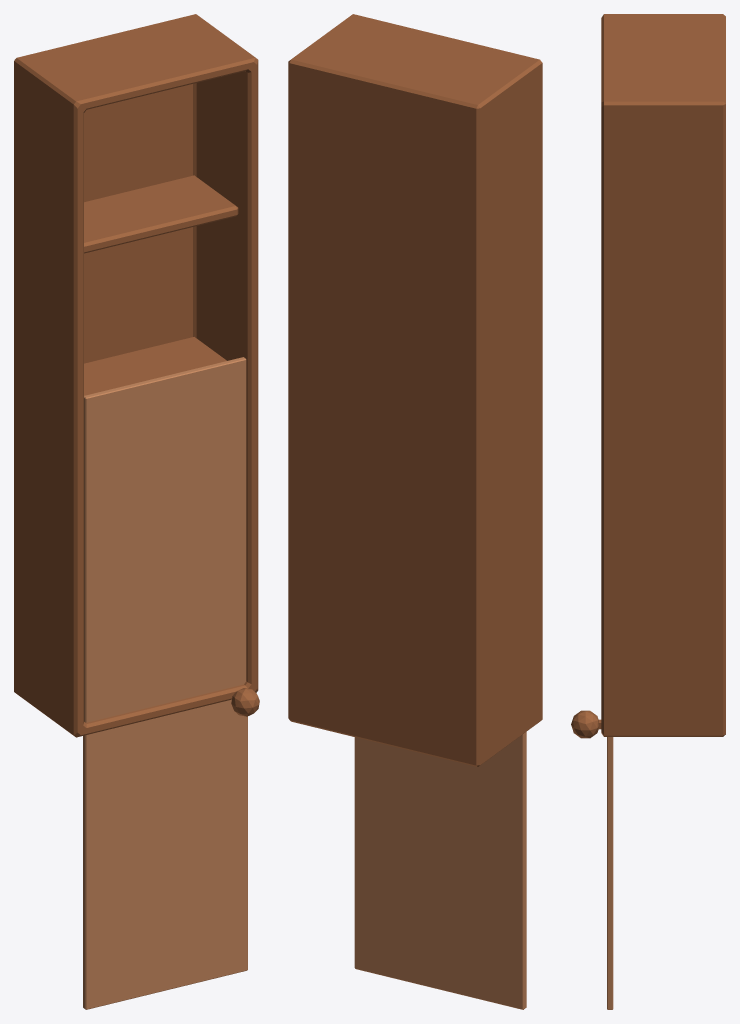
File: Shelf.fbx
The picture shows the model from 3 angles, left to right: view 1: azimuth 30°, elevation 25°; view 2: azimuth 150°, elevation 25°; view 3: azimuth 270°, elevation 25°; orthographic projection. The views are drawn at different scales.
Parts seen in each view (by area): view 1: Shelf A .001, Shelf A .002; view 2: Shelf A .001, Shelf A .002; view 3: Shelf A .001, Shelf A .002.
Boxes of the visible parts, x1=… form: Shelf A .001: x1=14, y1=14, x2=258, y2=737; Shelf A .002: x1=83, y1=357, x2=259, y2=1009; Shelf A .001: x1=288, y1=14, x2=542, y2=766; Shelf A .002: x1=354, y1=732, x2=526, y2=1009; Shelf A .001: x1=601, y1=14, x2=725, y2=736; Shelf A .002: x1=571, y1=710, x2=613, y2=1009.
Size of the model in its own units: 326 by 1543 by 238.
